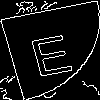E: (24, 25, 76, 77)
